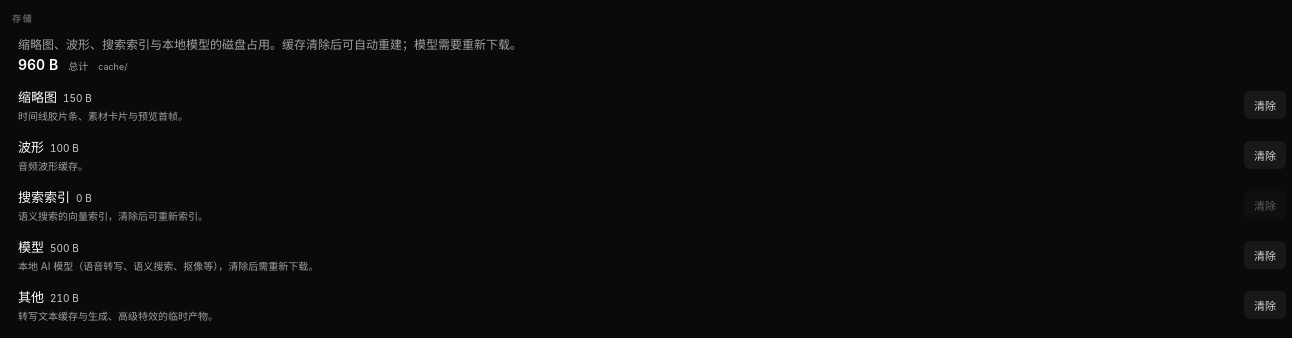
it: clears a non-model category immediately and adopts the fresh snapshot
Click the button "清除" in the row of "时间线胶片条、素材卡片与预览首帧。". click: (1265, 105)
box: [1244, 91, 1286, 119]
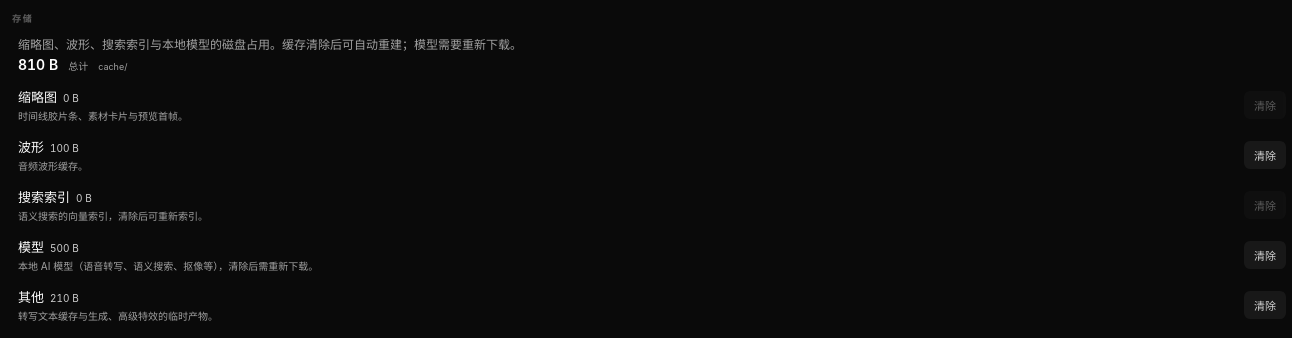
Check: the text "810 B" is shown, box [18, 56, 58, 73]
